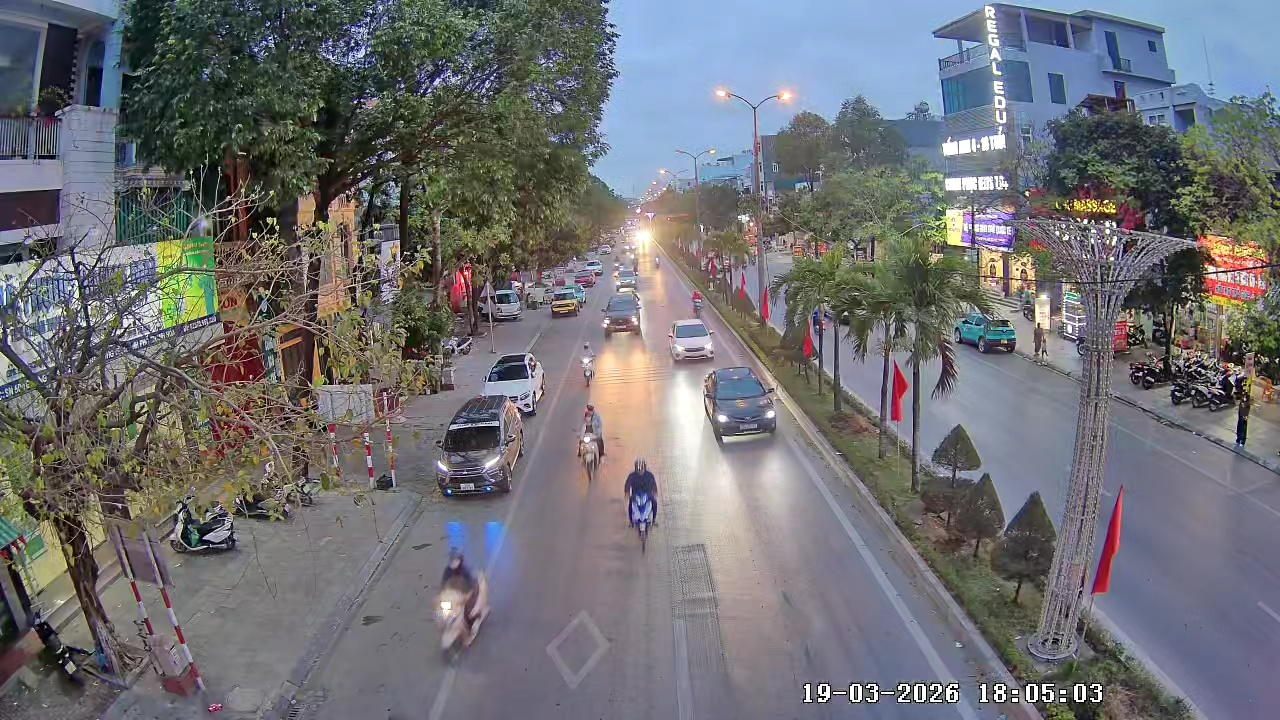car: (434, 397, 527, 498), (702, 364, 779, 447), (482, 351, 545, 417), (668, 317, 715, 364), (600, 291, 645, 336), (977, 315, 1018, 354), (955, 314, 995, 350), (549, 283, 585, 317), (613, 266, 639, 288)
motorbike: (429, 549, 490, 665), (622, 456, 662, 550), (574, 402, 607, 482), (580, 339, 597, 384), (692, 289, 708, 319)
pedestrian: (1232, 398, 1251, 456)
